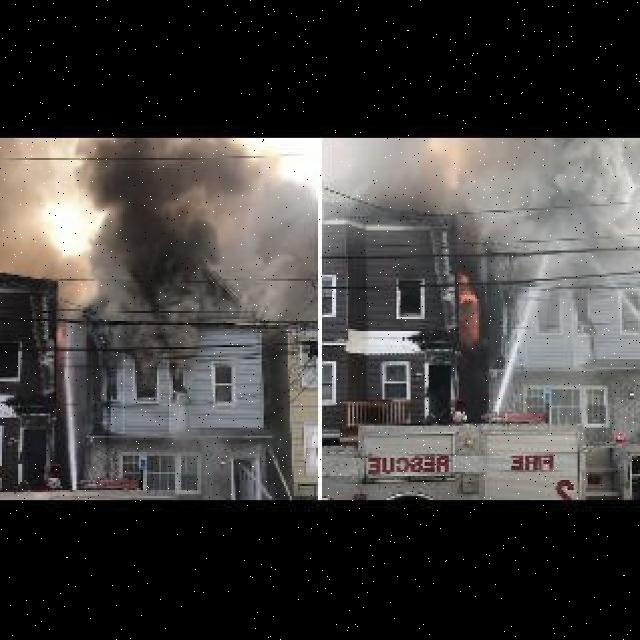fire: (449, 267, 487, 353)
smoke: (87, 138, 256, 371)
